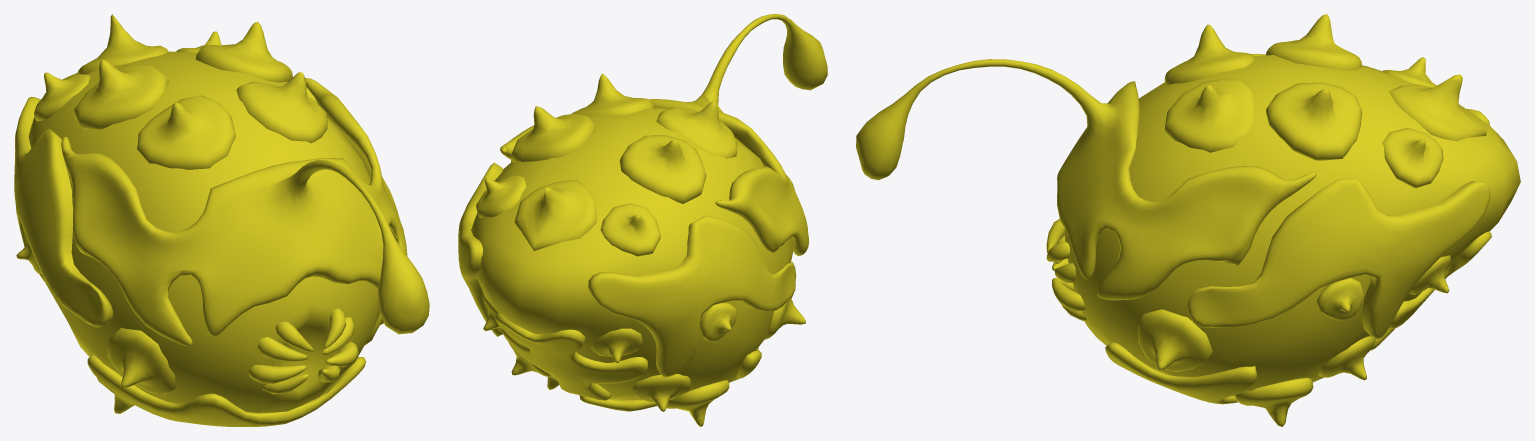
File: AirSAck_Low_Bake.fbx
3 renders of one model, left to right at view 1: azimuth 30°, elevation 25°; view 2: azimuth 150°, elevation 25°; view 3: azimuth 270°, elevation 25°, orthographic. The views are drawn at different scales.
Parts seen in each view (by area): view 1: UWU12_low, UWU13_low, UWU04_low, UWU01_low, UWU02_low, UWU11_low, UWU10_low, UWU09_low, UWU05_low, UWU00_low, UWU07_low, UWU06_low; view 2: UWU13_low, UWU04_low, UWU01_low, UWU12_low, UWU03_low, UWU02_low; view 3: UWU13_low, UWU04_low, UWU12_low, UWU01_low, UWU02_low, UWU03_low, UWU07_low.
Part boxes in pixels (x1,y1,x2,y2): UWU12_low: [61, 78, 429, 345]; UWU13_low: [28, 51, 379, 412]; UWU04_low: [16, 14, 383, 413]; UWU01_low: [14, 77, 317, 327]; UWU02_low: [87, 353, 366, 426]; UWU11_low: [248, 364, 306, 383]; UWU10_low: [257, 337, 307, 361]; UWU09_low: [275, 321, 313, 351]; UWU05_low: [324, 308, 345, 348]; UWU00_low: [262, 374, 308, 394]; UWU07_low: [325, 341, 358, 366]; UWU06_low: [321, 317, 354, 354]; UWU13_low: [471, 107, 793, 400]; UWU04_low: [476, 73, 805, 426]; UWU01_low: [458, 163, 796, 377]; UWU12_low: [500, 14, 827, 255]; UWU03_low: [495, 312, 647, 400]; UWU02_low: [579, 347, 761, 411]; UWU13_low: [1064, 55, 1520, 396]; UWU04_low: [1138, 14, 1486, 426]; UWU12_low: [856, 54, 1316, 300]; UWU01_low: [1187, 109, 1490, 338]; UWU02_low: [1105, 342, 1324, 404]; UWU03_low: [1370, 231, 1491, 350]; UWU07_low: [1052, 278, 1085, 310].
Bounding box in the file's own units: 224 × 230 × 415.
